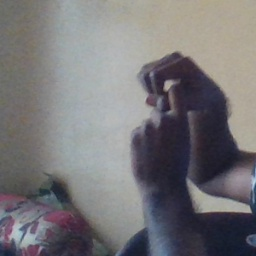Q: (123, 51, 226, 172)
